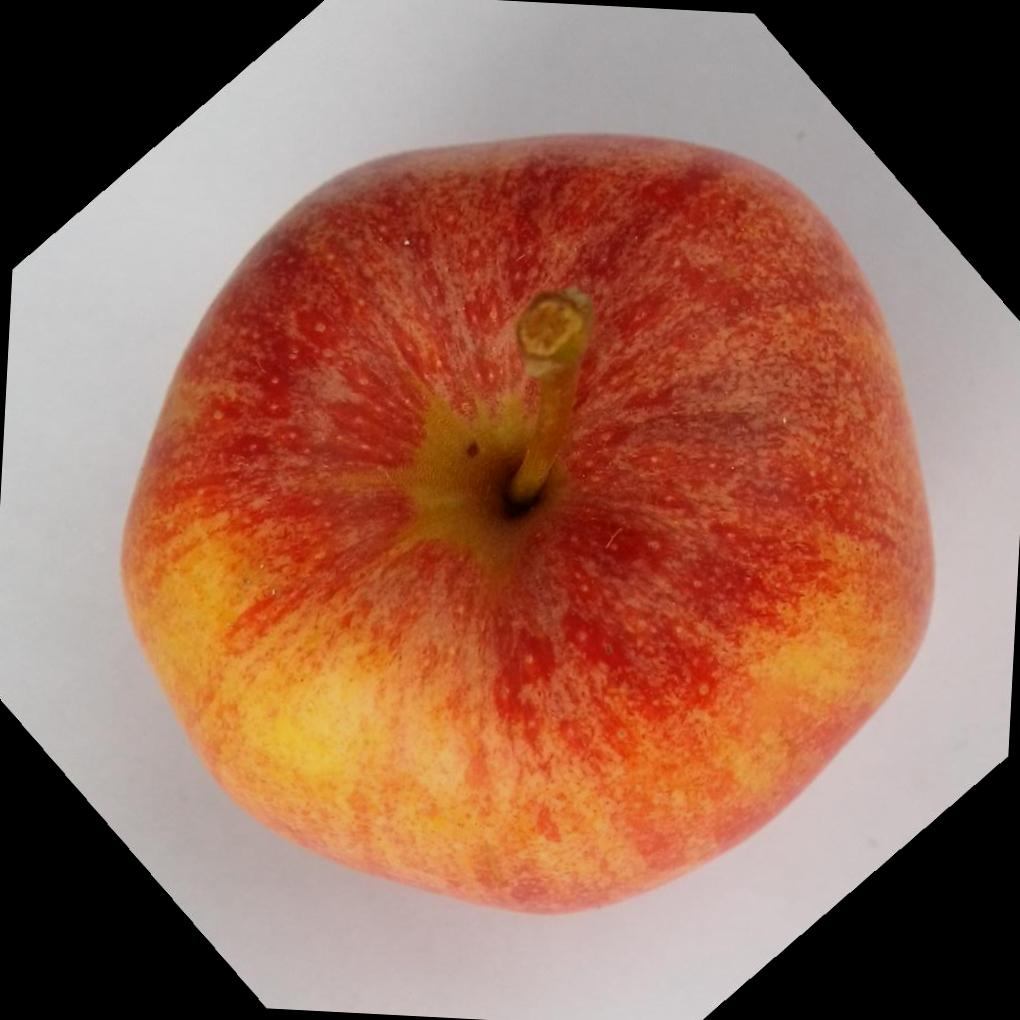FreshGuava: (120, 130, 942, 917)
